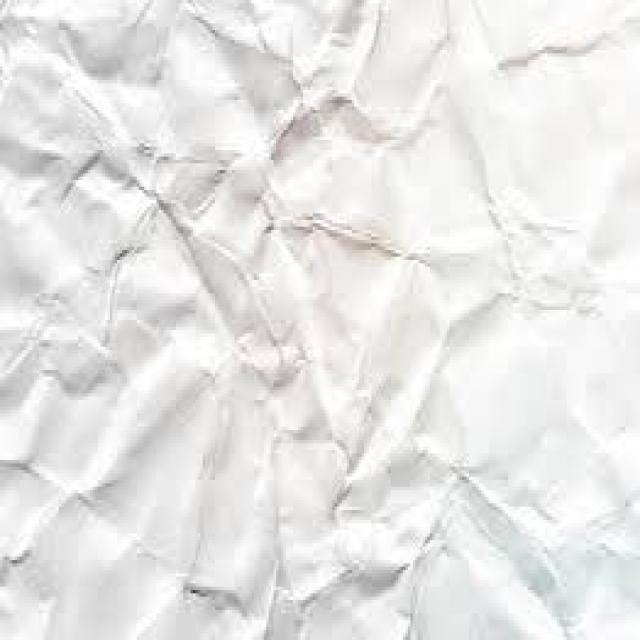Newspaper: (4, 0, 639, 640)
